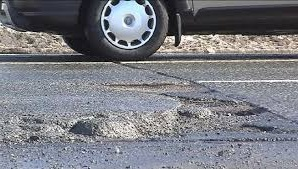pothole: (0, 94, 287, 143), (102, 77, 206, 97)
